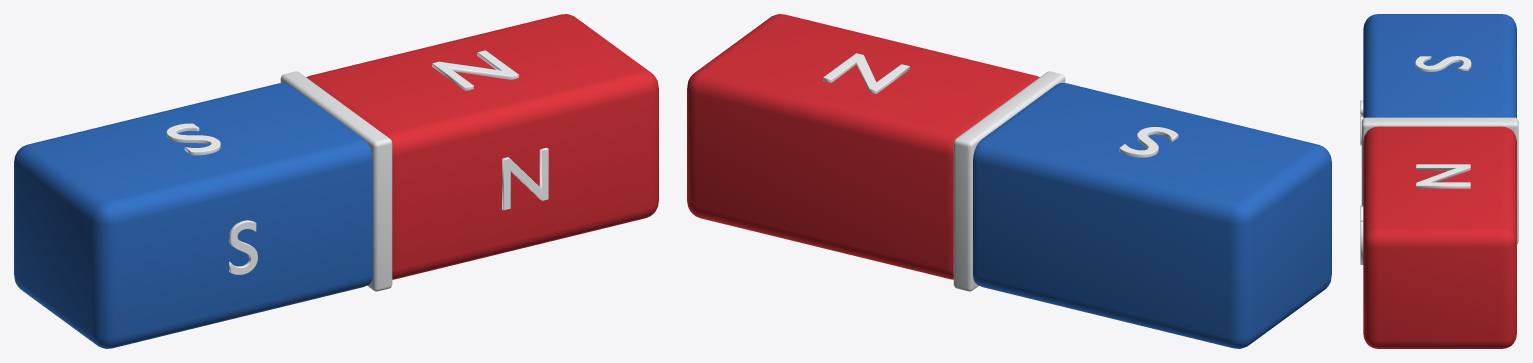
Rendered from bar-magnet.glb.
The picture shows the model from 3 angles, left to right: view 1: azimuth 30°, elevation 25°; view 2: azimuth 150°, elevation 25°; view 3: azimuth 270°, elevation 25°; orthographic projection. The views are drawn at different scales.
Visible parts, largest first — view 1: Pole_S, Pole_N, CenterBand, Label_N_Top, Label_N_Front, Label_S_Top, Label_S_Front; view 2: Pole_S, Pole_N, CenterBand, Label_N_Top, Label_S_Top; view 3: Pole_N, Pole_S, CenterBand, Label_N_Top, Label_S_Top, Label_N_Front.
Boxes of the visible parts, x1,y1,x2,y2 form: Pole_S: [14, 83, 372, 348]; Pole_N: [306, 14, 658, 279]; CenterBand: [280, 71, 392, 291]; Label_N_Top: [432, 50, 518, 90]; Label_N_Front: [502, 147, 548, 210]; Label_S_Top: [166, 123, 220, 155]; Label_S_Front: [228, 220, 257, 274]; Pole_S: [973, 83, 1331, 348]; Pole_N: [687, 14, 1039, 279]; CenterBand: [953, 71, 1065, 291]; Label_N_Top: [823, 53, 909, 93]; Label_S_Top: [1119, 127, 1178, 157]; Pole_N: [1363, 126, 1516, 348]; Pole_S: [1363, 14, 1516, 117]; CenterBand: [1361, 117, 1518, 243]; Label_N_Top: [1416, 164, 1470, 188]; Label_S_Top: [1415, 56, 1471, 71]; Label_N_Front: [1360, 205, 1363, 264].
Size of the model in its own units: 2.5 by 0.6425 by 0.7413.
